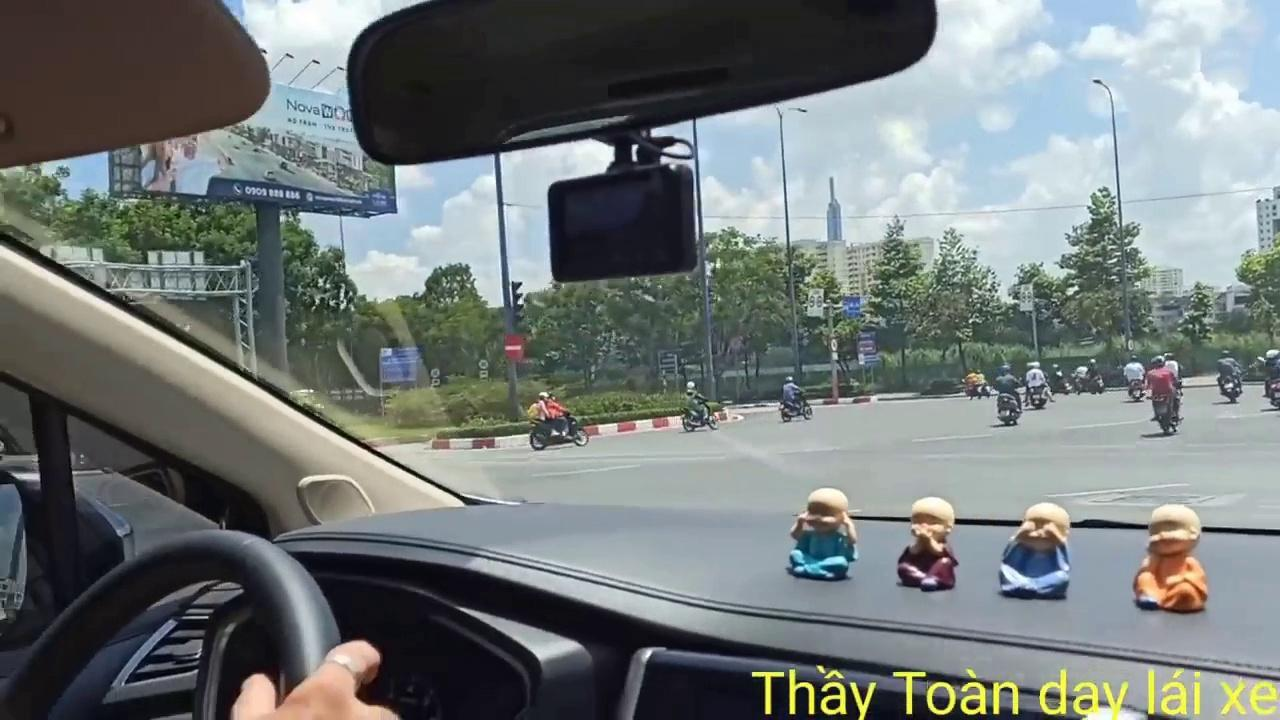Cấm cac phương tiện hoạt động trong khung giờ cố định: (805, 286, 825, 318)
Cấm đi ngược chiều: (502, 333, 526, 362)
Khác: (378, 345, 420, 383), (856, 329, 878, 367)
Làn đường cho từng xe: (842, 294, 862, 319)
